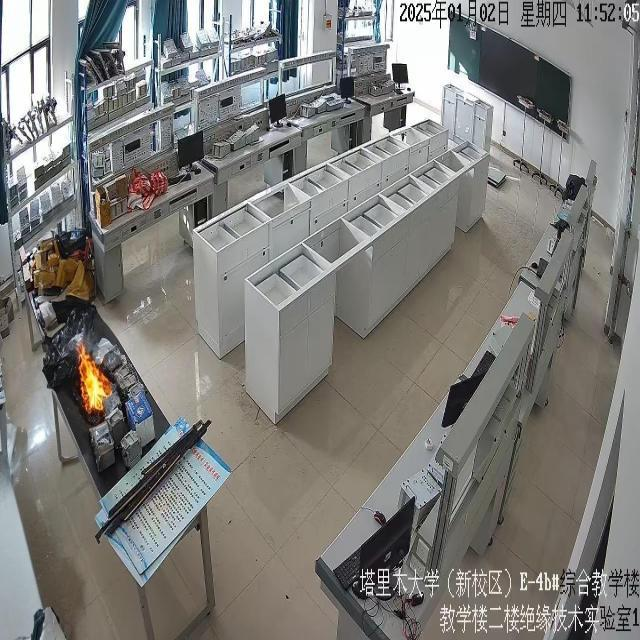smoke: (74, 340, 112, 416)
